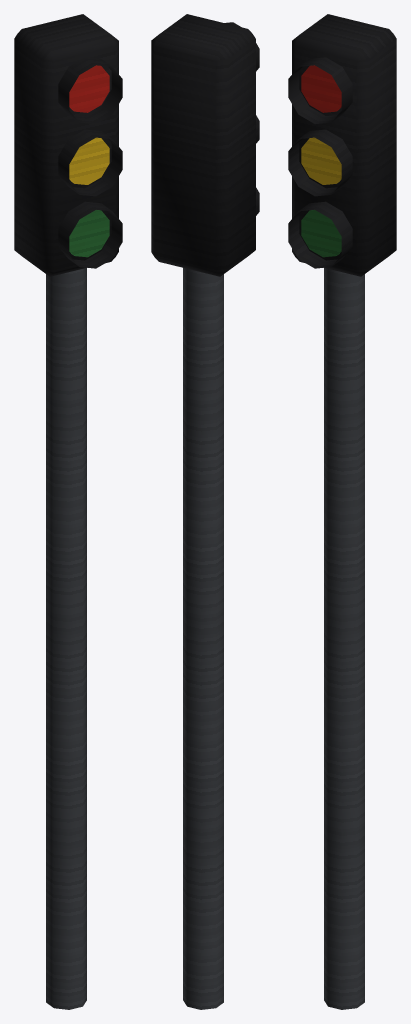
File: semaforo.glb
3 views of the same model, side by side, from view 1: azimuth 30°, elevation 25°; view 2: azimuth 150°, elevation 25°; view 3: azimuth 330°, elevation 25° (orthographic).
Visible parts, largest first — view 1: Inteiro; view 2: Inteiro; view 3: Inteiro.
Part boxes in pixels (x1,y1,x2,y2): Inteiro: (14,14,122,1009); Inteiro: (151,14,259,1009); Inteiro: (288,14,396,1009).
Size of the model in its own units: 0.3 by 3.62 by 0.325.
1 material, 1 textured.
